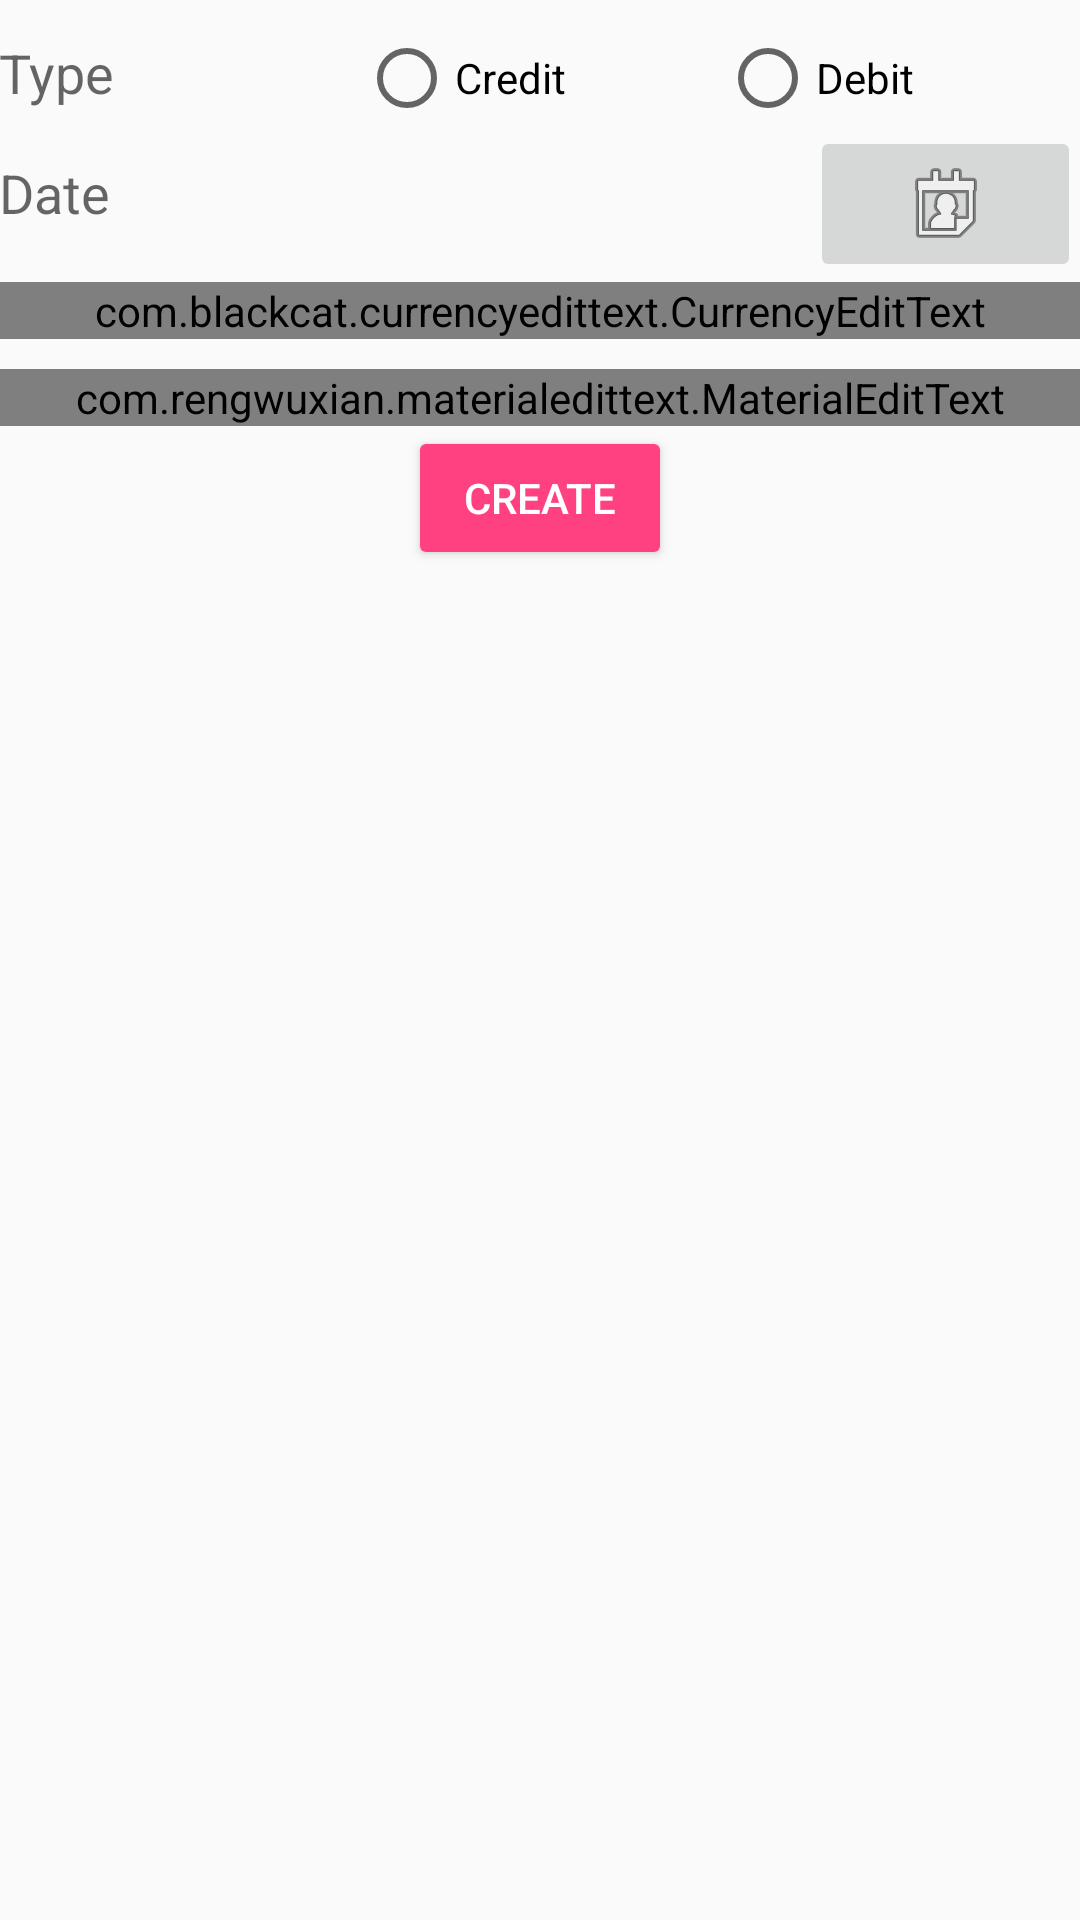

Screen size 1080×1920. Icon name, then its center in pixels as (x=x, y=y):
Calendar: (x=945, y=204)
